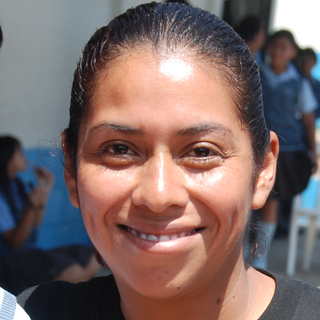eye: (96, 139, 145, 165), (178, 142, 226, 167)
